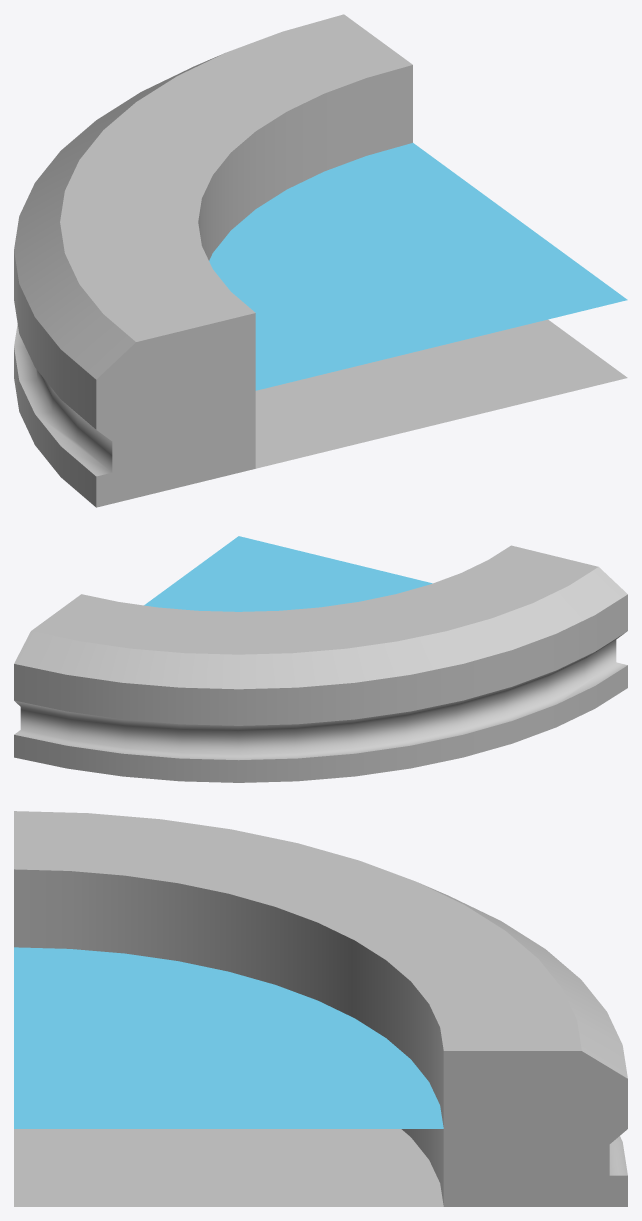
File: fountain-curved.obj
The picture shows the model from 3 angles, top to bottom: view 1: azimuth 30°, elevation 25°; view 2: azimuth 150°, elevation 25°; view 3: azimuth 270°, elevation 25°; orthographic projection. The views are drawn at different scales.
Visible parts, largest first — view 1: fountain-curved, (%ignore); view 2: fountain-curved, (%ignore); view 3: fountain-curved, (%ignore).
Part boxes in pixels (left/top/right/bottom): fountain-curved: left=14, top=14, right=627, bottom=507; (%ignore): left=209, top=143, right=627, bottom=390; fountain-curved: left=14, top=545, right=627, bottom=782; (%ignore): left=144, top=536, right=432, bottom=611; fountain-curved: left=14, top=811, right=627, bottom=1206; (%ignore): left=14, top=947, right=443, bottom=1128.
Bounding box in the file's own units: 1 × 0.28 × 1.
